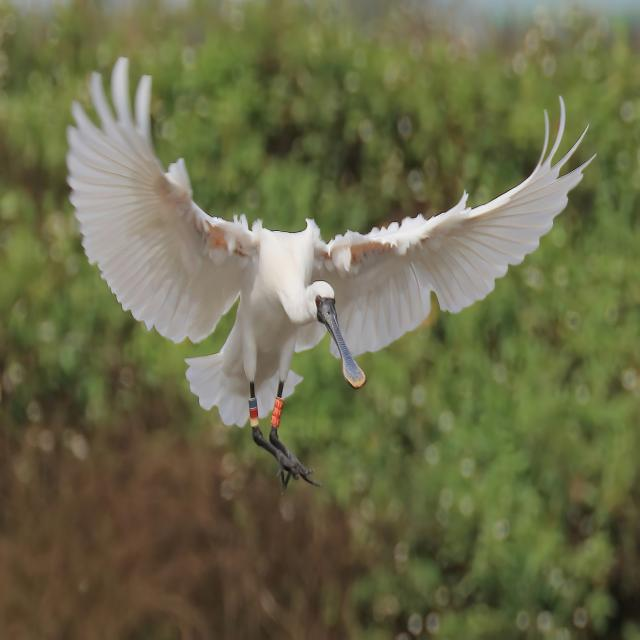Black-faced spoonbill: (67, 58, 590, 482)
